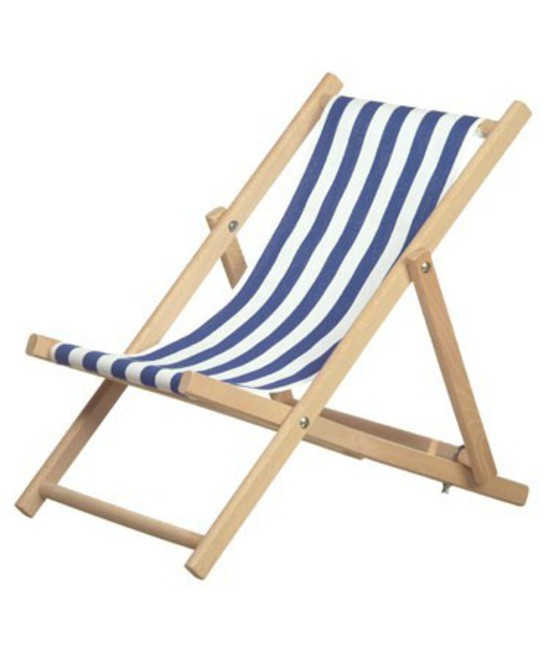chairs: (16, 61, 533, 574)
